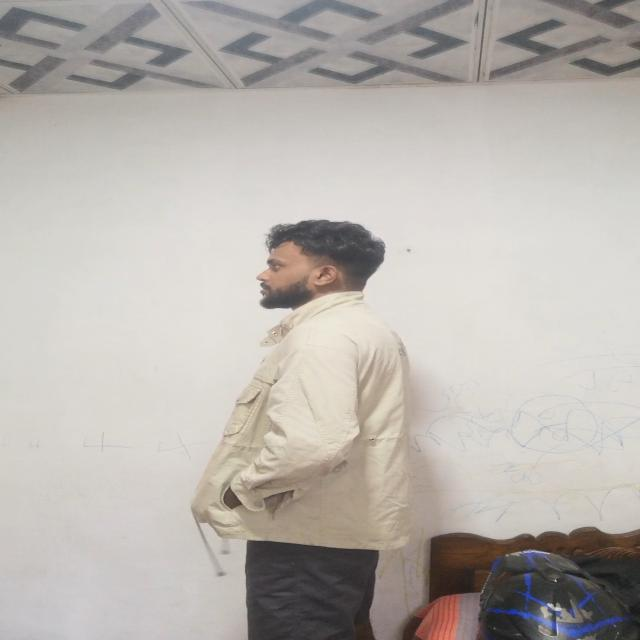Jacket_Wearer: (191, 300, 439, 568)
Person: (203, 220, 436, 640)
